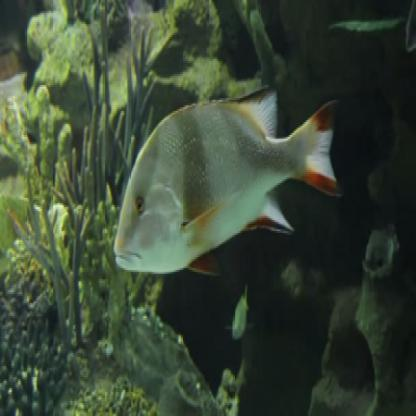Bio: (109, 79, 345, 283)
